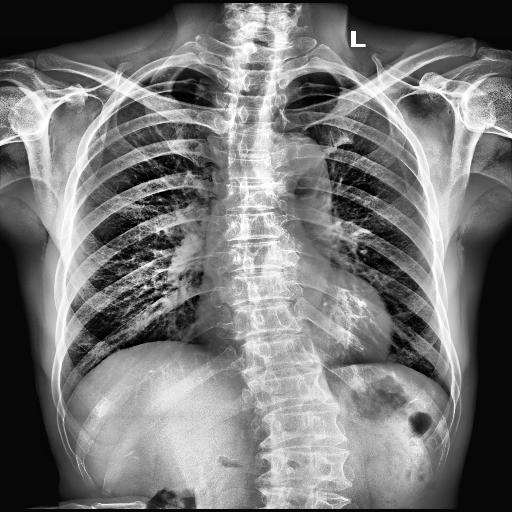0- Aortic enlargement: (266, 130, 334, 222), (252, 132, 330, 201), (261, 132, 333, 197)
